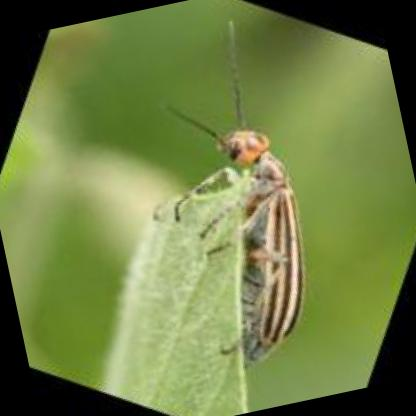blister beetle: (168, 22, 306, 366)
